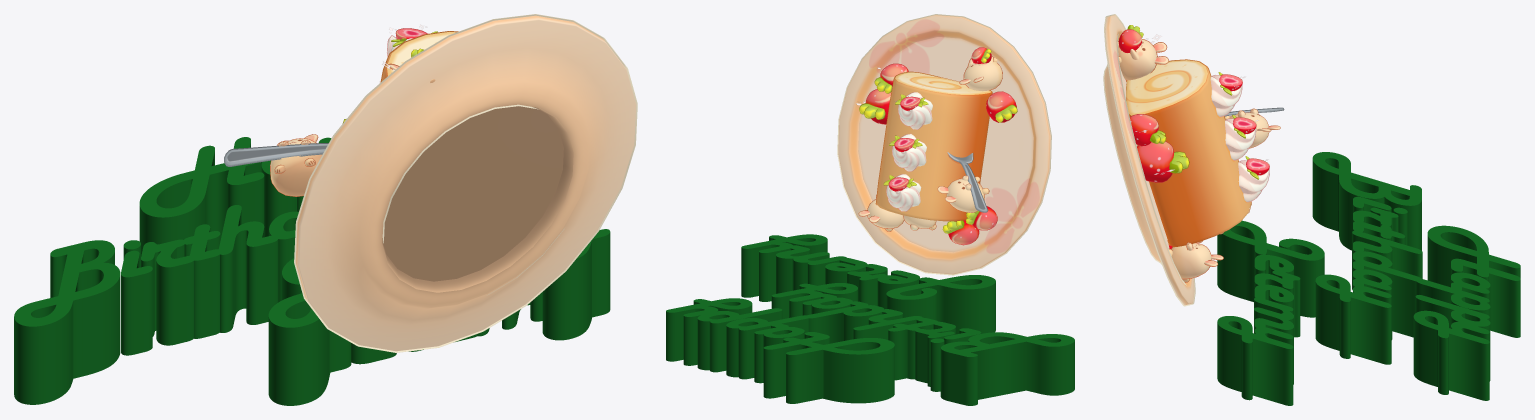
The picture shows the model from 3 angles, left to right: view 1: azimuth 30°, elevation 25°; view 2: azimuth 150°, elevation 25°; view 3: azimuth 270°, elevation 25°; orthographic projection. The views are drawn at different scales.
Parts seen in each view (by area): view 1: Plate, Text, Bony.012, Spoon, Roll_cake; view 2: Text, Plate, Roll_cake, Bony.010, Bony.012, Berry.001, Berry.013, Meringue.002, Meringue.001, Meringue, Bony.006_Rabit_0, Berry.015 (+3 smaller); view 3: Text, Roll_cake, Plate, Berry.001, Bony.010, Bony.006_Rabit_0, Berry, Meringue.002, Meringue.001, Meringue, Bony.012, Berry.012.
Boxes of the visible parts, box(x1,y1,x2,y2) form: Plate: box(294, 14, 637, 352); Text: box(14, 137, 610, 405); Bony.012: box(270, 134, 321, 196); Spoon: box(224, 143, 328, 166); Roll_cake: box(380, 31, 458, 82); Text: box(666, 234, 1074, 405); Plate: box(837, 14, 1051, 275); Roll_cake: box(875, 71, 992, 221); Bony.010: box(959, 56, 1002, 91); Bony.012: box(937, 175, 989, 212); Berry.001: box(859, 89, 891, 124); Berry.013: box(986, 91, 1017, 122); Meringue.002: box(886, 174, 921, 211); Meringue.001: box(892, 133, 926, 171); Meringue: box(898, 92, 932, 129); Bony.006_Rabit_0: box(858, 195, 904, 231); Berry.015: box(942, 220, 979, 245); Text: box(1217, 152, 1520, 405); Roll_cake: box(1126, 59, 1251, 247); Plate: box(1103, 14, 1195, 306); Berry.001: box(1137, 141, 1189, 182); Bony.010: box(1117, 39, 1168, 80); Bony.006_Rabit_0: box(1168, 242, 1223, 282); Berry: box(1129, 114, 1166, 146); Meringue.002: box(1238, 160, 1269, 202); Meringue.001: box(1225, 118, 1256, 160); Meringue: box(1210, 75, 1242, 116); Bony.012: box(1225, 108, 1280, 148); Berry.012: box(1118, 25, 1143, 52).
Bounding box in the file's own units: 4.63 × 3.28 × 4.15.
4 materials, 3 textured.
